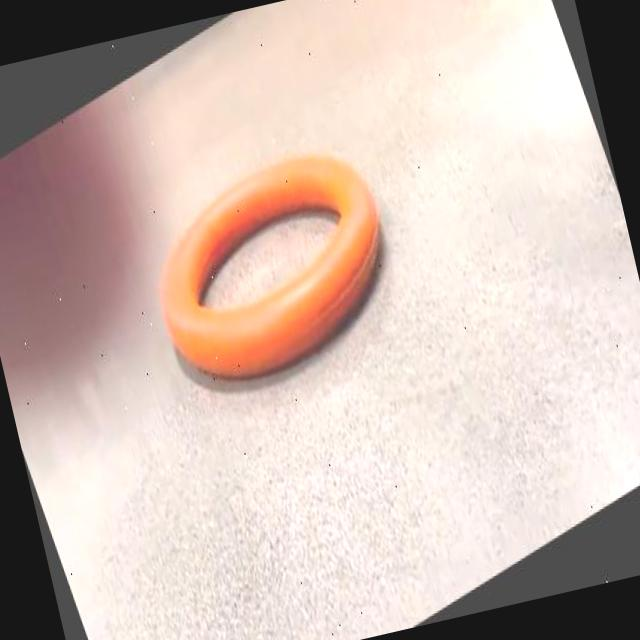note: (161, 152, 378, 374)
